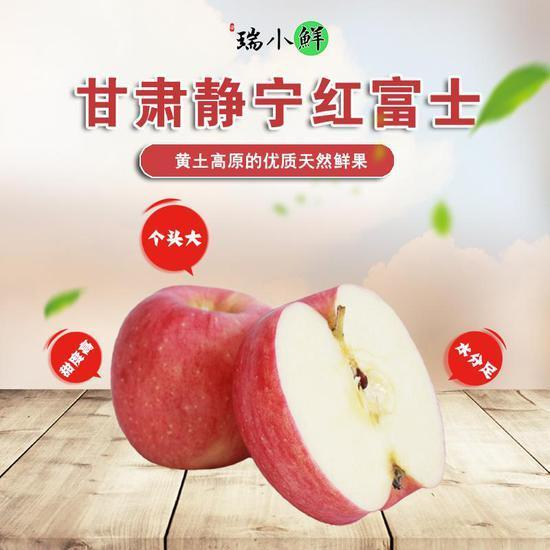apple: (109, 285, 262, 471)
